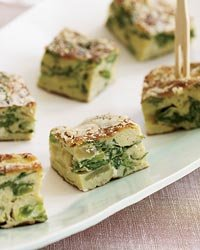slice of bread: (52, 136, 147, 150)
